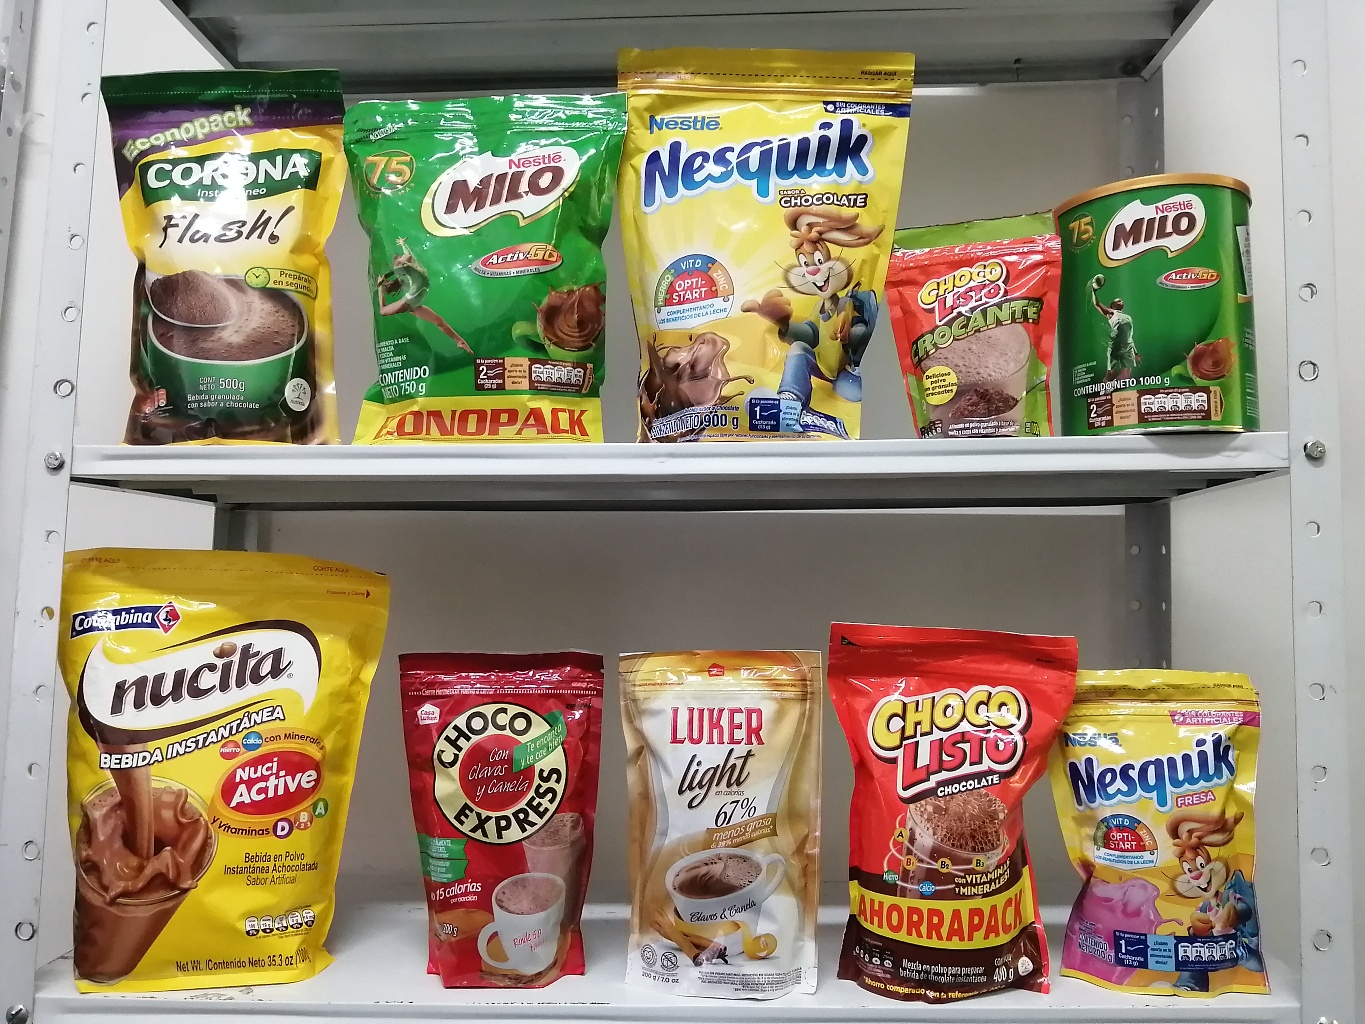COL0170102DYP10000: (891, 213, 1066, 436)
COL0170103DYP40000: (815, 611, 1087, 1005)
COL0170305DYP20000: (1050, 664, 1283, 989)
